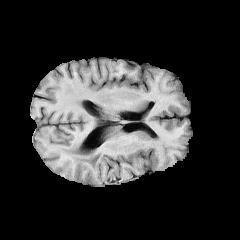glioma: (60, 140, 103, 170)
